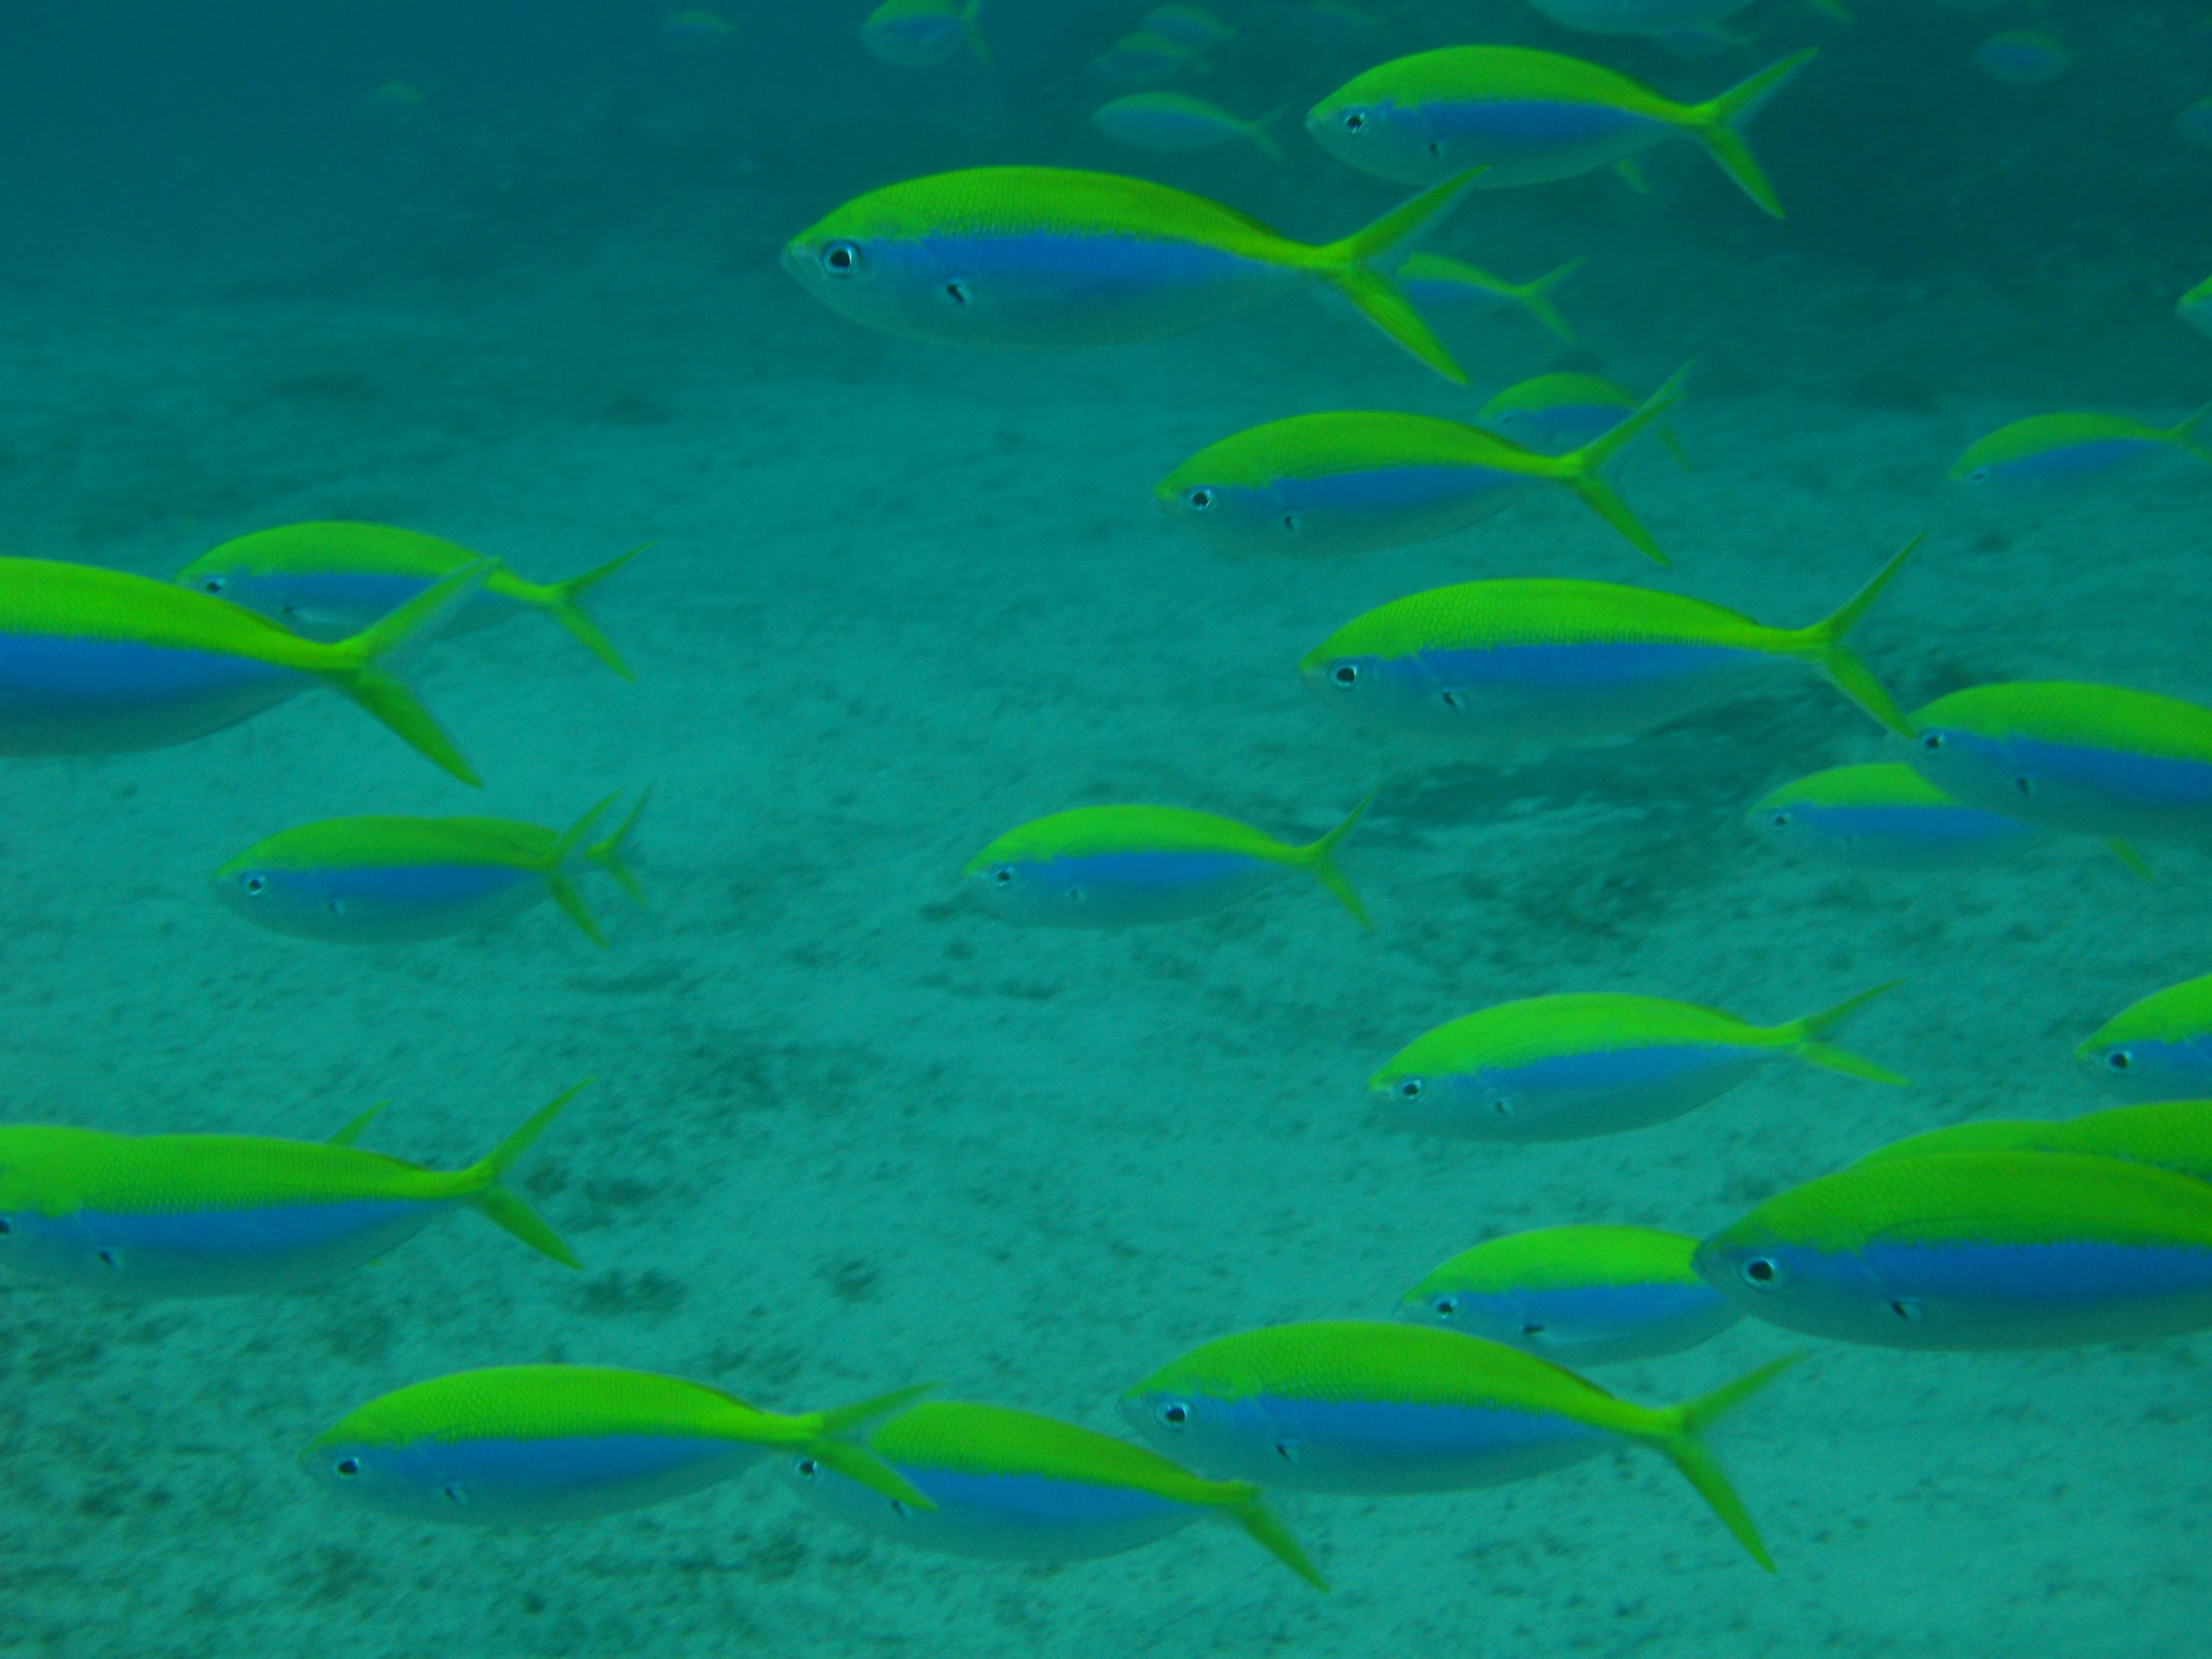Caesio xanthonota: (658, 106, 1538, 455), (1068, 1253, 1818, 1584), (214, 1297, 925, 1565), (1258, 552, 1919, 807), (1069, 366, 1764, 584), (1683, 1103, 2212, 1368), (888, 721, 1374, 1009), (766, 1382, 1327, 1622), (158, 505, 714, 748), (1291, 983, 1956, 1171), (1264, 37, 1796, 270), (172, 795, 744, 964), (1327, 1194, 1796, 1375), (1869, 650, 2212, 849), (1895, 361, 2212, 542), (810, 0, 1050, 77)
